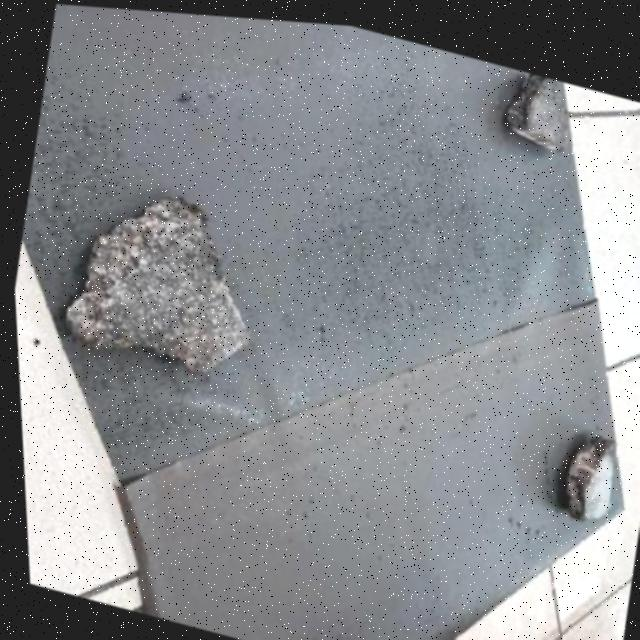Road Debris: (52, 171, 224, 367), (519, 67, 577, 146), (575, 447, 620, 514)
